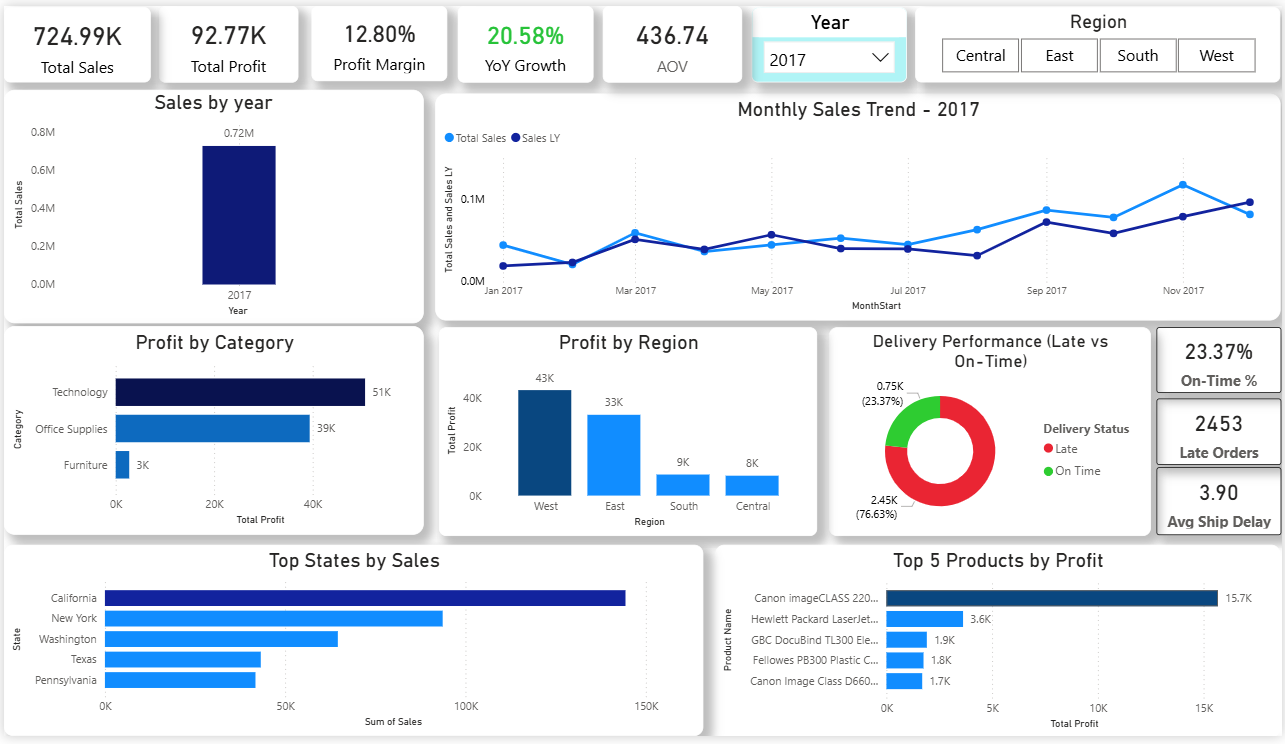

Layout of this report page (visuals, bound fields, positions):
{"tool":"powerbi","page":{"name":"Page 1","canvas":[1400,800],"ordinal":0},"visuals":[{"type":"card","fields":{"Values":["ecommerce sales.Total Profit"]},"box":[170.4,0,152.8,83.8],"z":0},{"type":"card","fields":{"Values":["ecommerce sales.Profit Margin %"]},"box":[336.7,0,148.7,82.5],"z":1000},{"type":"card","fields":{"Values":["ecommerce sales.Total Sales"]},"box":[0,1.4,160.9,82.5],"z":2000},{"type":"card","fields":{"Values":["Date Table.YoY Growth %"]},"box":[497.6,0,148.7,83.8],"z":3000},{"type":"clusteredColumnChart","title":"Sales by year","fields":{"Category":["Date Table.Year"],"Y":["ecommerce sales.Total Sales"]},"box":[0,91.6,460.4,255.6],"z":4000},{"type":"lineChart","fields":{"Y":["ecommerce sales.Total Sales","Date Table.Sales LY"],"Category":["Date Table.MonthStart"]},"box":[473.2,96,926.2,248.8],"z":5000},{"type":"slicer","title":"Year","fields":{"Values":["Date Table.Year"]},"box":[819.4,1.4,170.4,82.5],"z":6000},{"type":"barChart","title":"Profit by Category","fields":{"Category":["ecommerce sales.Category"],"Y":["ecommerce sales.Total Profit"]},"box":[0,351,460.4,228.9],"z":7000},{"type":"card","fields":{"Values":["ecommerce sales.Avg Ship Delay"]},"box":[1262.9,505.7,136.6,74.4],"z":8000},{"type":"card","fields":{"Values":["ecommerce sales.Late Orders"]},"box":[1262.9,430,136.6,73],"z":9000},{"type":"card","fields":{"Values":["ecommerce sales.On-Time %"]},"box":[1262.9,351.5,136.6,71.7],"z":10000},{"type":"donutChart","title":"Delivery Performance (Late vs On-Time)","fields":{"Category":["ecommerce sales.Delivery Status"],"Y":["CountNonNull(ecommerce sales.Order ID)"]},"box":[904.6,351.5,352.9,228.5],"z":11000},{"type":"lineChart","title":"Late Orders Trend","fields":{"Y":["ecommerce sales.Late %"],"Category":["ecommerce sales.YearMonthDate"]},"box":[0,590.1,878.4,210.1],"z":12000},{"type":"slicer","title":"Region","fields":{"Values":["ecommerce sales.Region"]},"box":[1141.9,803.4,826.1,237.5],"z":13000},{"type":"clusteredColumnChart","title":"Profit by Region","fields":{"Y":["ecommerce sales.Total Profit"],"Category":["ecommerce sales.Region"]},"box":[476.5,351.9,414.2,228.5],"z":14000},{"type":"card","fields":{"Values":["ecommerce sales.AOV"]},"box":[655.8,0,152.8,83.8],"z":15000},{"type":"clusteredBarChart","title":"Top 5 Products by Profit","fields":{"Category":["ecommerce sales.Product Name"],"Y":["ecommerce sales.Total Profit"]},"box":[891,589.5,508.4,210.9],"z":16000},{"type":"slicer","title":"Region","fields":{"Values":["ecommerce sales.Region"]},"box":[999.2,1.4,400.2,82.5],"z":17000}]}

Visuals, with their boxes in screenshot pixels (x1, y1, x2, y2), scaled from the page's 1400x800 canvas onto the 1285x744 screenshot:
card - ecommerce sales.Total Profit: locate(156, 0, 297, 78)
card - ecommerce sales.Profit Margin %: locate(309, 0, 446, 77)
card - ecommerce sales.Total Sales: locate(0, 1, 148, 78)
card - Date Table.YoY Growth %: locate(457, 0, 593, 78)
"Sales by year" clusteredColumnChart: locate(0, 85, 423, 323)
lineChart - ecommerce sales.Total Sales x Date Table.Sales LY: locate(434, 89, 1284, 321)
"Year" slicer: locate(752, 1, 908, 78)
"Profit by Category" barChart: locate(0, 326, 423, 539)
card - ecommerce sales.Avg Ship Delay: locate(1159, 470, 1284, 539)
card - ecommerce sales.Late Orders: locate(1159, 400, 1284, 468)
card - ecommerce sales.On-Time %: locate(1159, 327, 1284, 394)
"Delivery Performance (Late vs On-Time)" donutChart: locate(830, 327, 1154, 539)
"Late Orders Trend" lineChart: locate(0, 549, 806, 743)
"Profit by Region" clusteredColumnChart: locate(437, 327, 818, 540)
card - ecommerce sales.AOV: locate(602, 0, 742, 78)
"Top 5 Products by Profit" clusteredBarChart: locate(818, 548, 1284, 743)
"Region" slicer: locate(917, 1, 1284, 78)
